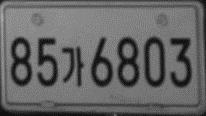0: (143, 35, 166, 88)
3: (169, 37, 193, 87)
5: (36, 37, 58, 87)
6: (89, 36, 113, 87)
8: (116, 35, 140, 88), (10, 36, 32, 87)
가: (60, 45, 85, 87)
